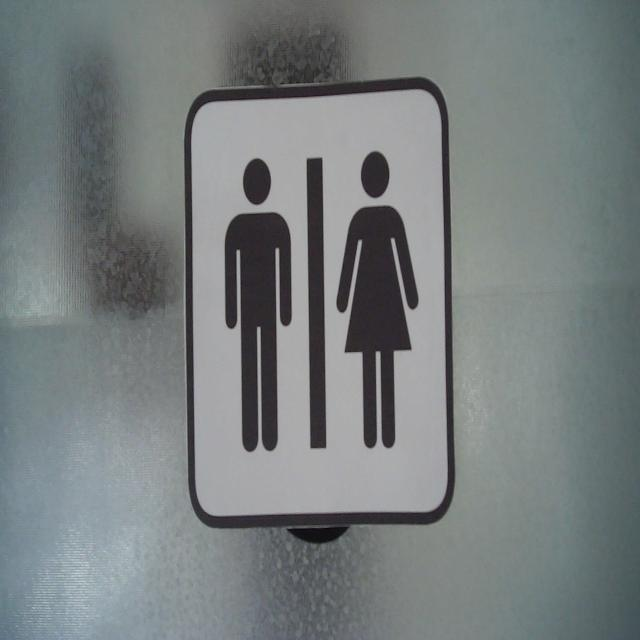restroom: (182, 71, 458, 534)
